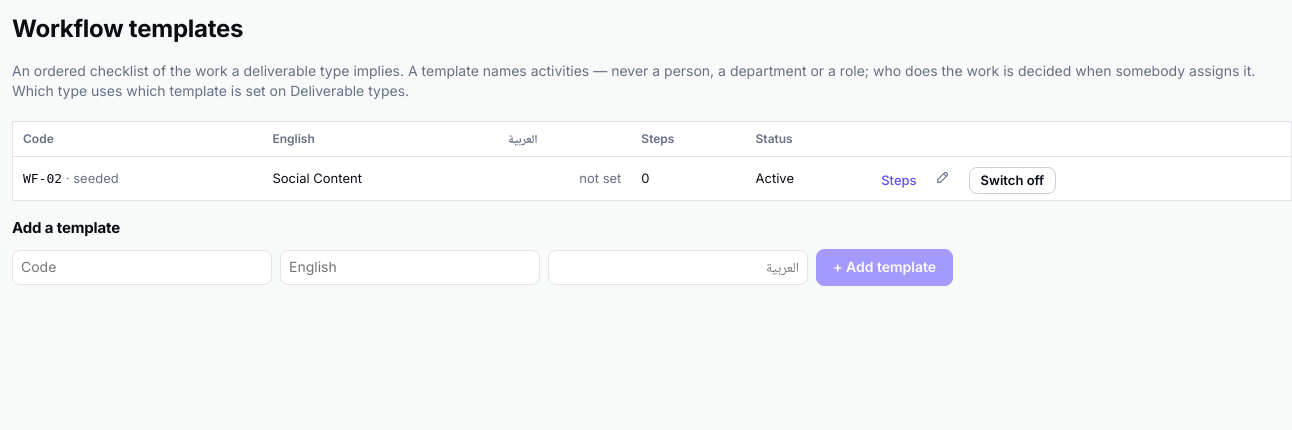
Test: WorkflowTemplatesPage (ADR-0052, I19.12) › warns that a template with no steps would create an empty task list
The width and height of the screenshot is (1292, 430).
What coordinates should you click on to do the following:
click the button with test id "workflow-open-WF-02"
I would click on:
 (899, 181)
Its box is [881,173,917,188].
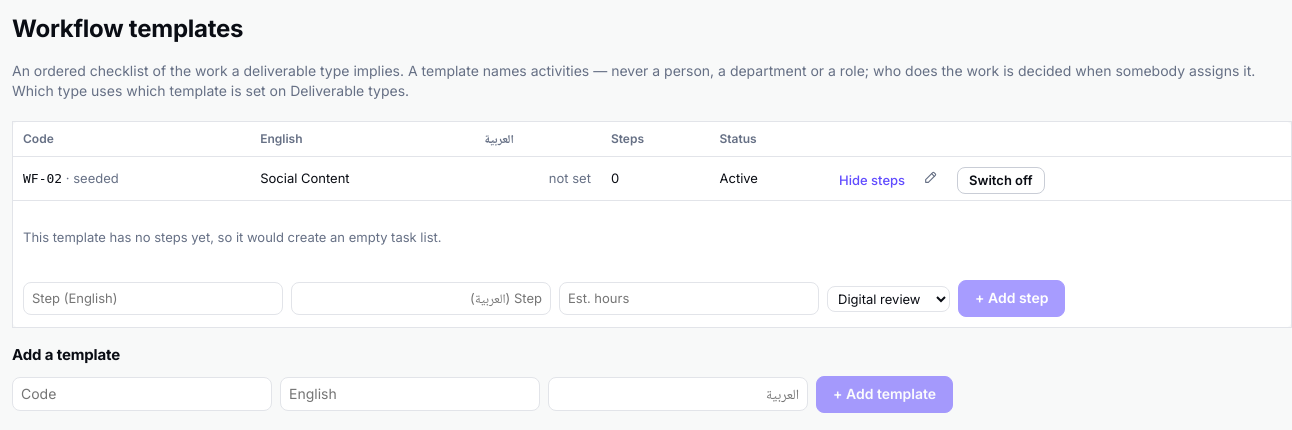
Check: the text with test id "workflow-no-steps" shows "empty task list", box [23,229,442,245]
